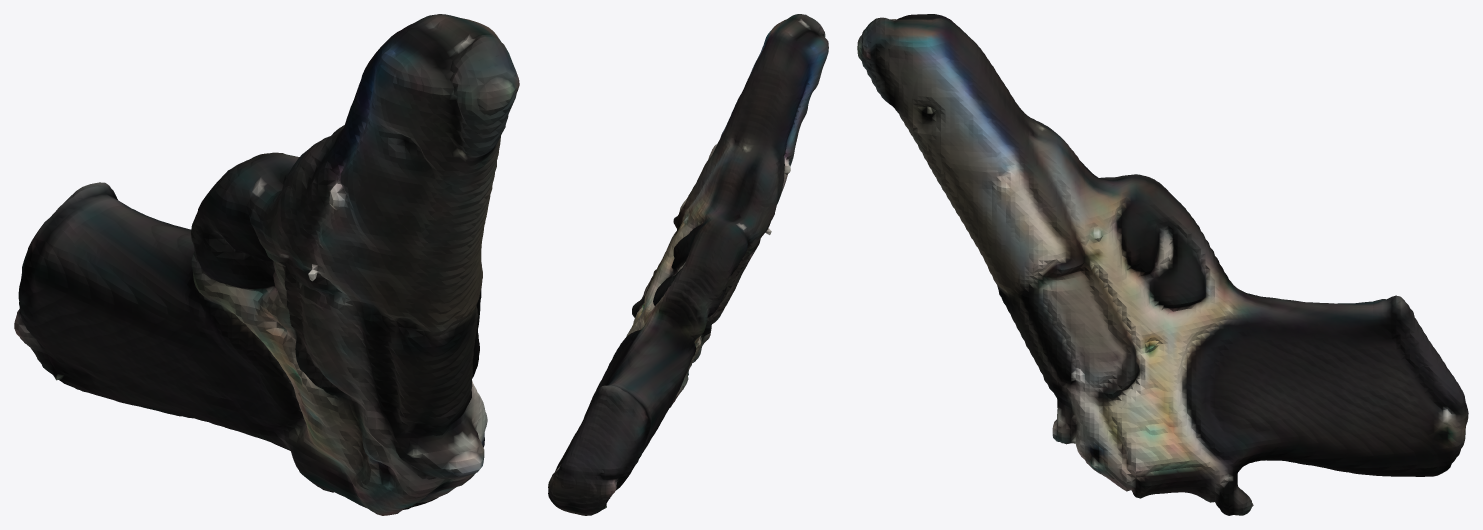
3 renders of one model, left to right at view 1: azimuth 30°, elevation 25°; view 2: azimuth 150°, elevation 25°; view 3: azimuth 270°, elevation 25°, orthographic. The views are drawn at different scales.
Bounding box in the file's own units: 0.3003 × 0.7398 × 0.8976.
